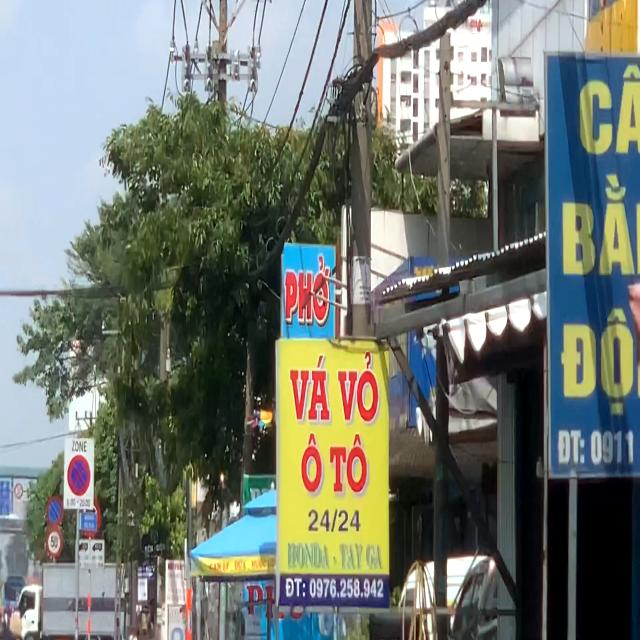P.127: (46, 526, 63, 558)
P.130: (67, 455, 91, 496)
P.131a: (46, 496, 64, 526)
